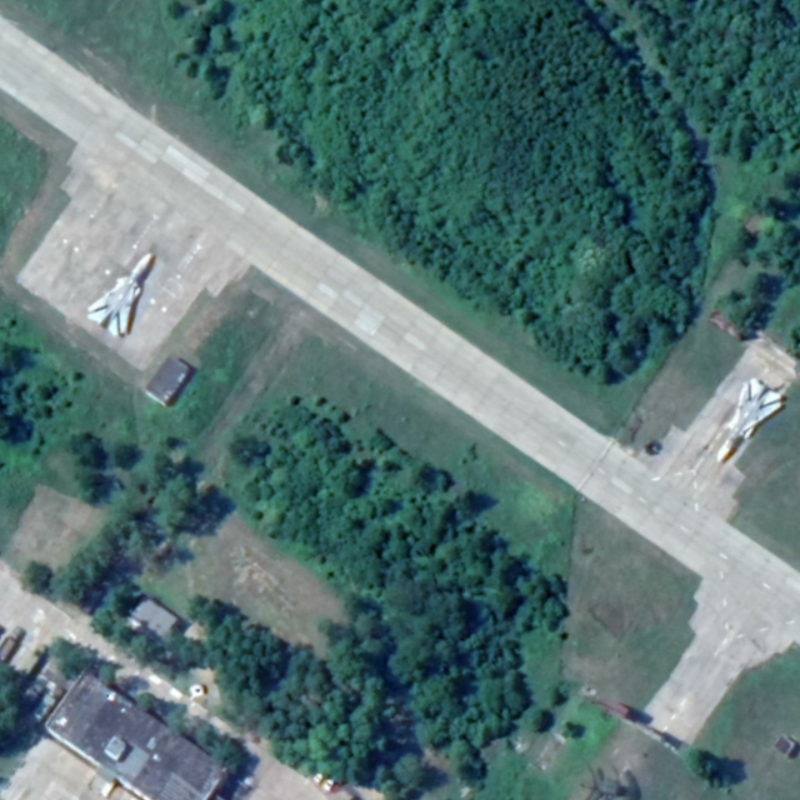A20: (85, 250, 154, 339), (715, 375, 783, 465)
